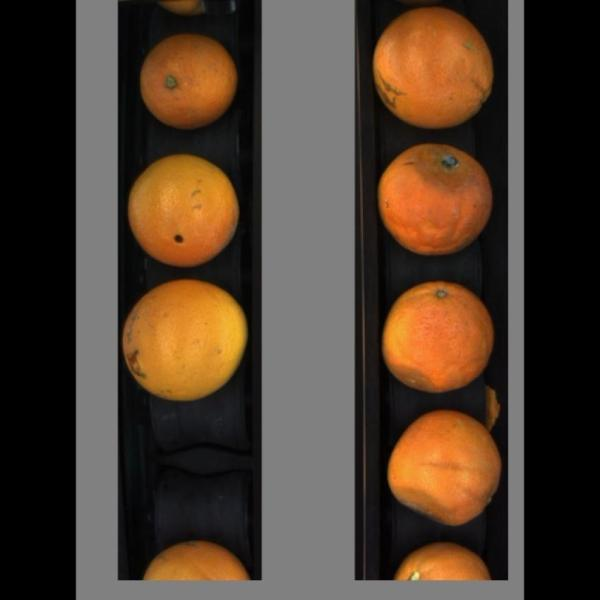Otros defectos: (118, 282, 260, 415), (375, 399, 510, 535), (122, 145, 262, 274), (371, 138, 503, 270), (368, 9, 503, 138), (371, 274, 501, 400), (136, 32, 240, 135)
Sana: (136, 541, 254, 587), (392, 541, 499, 584)
